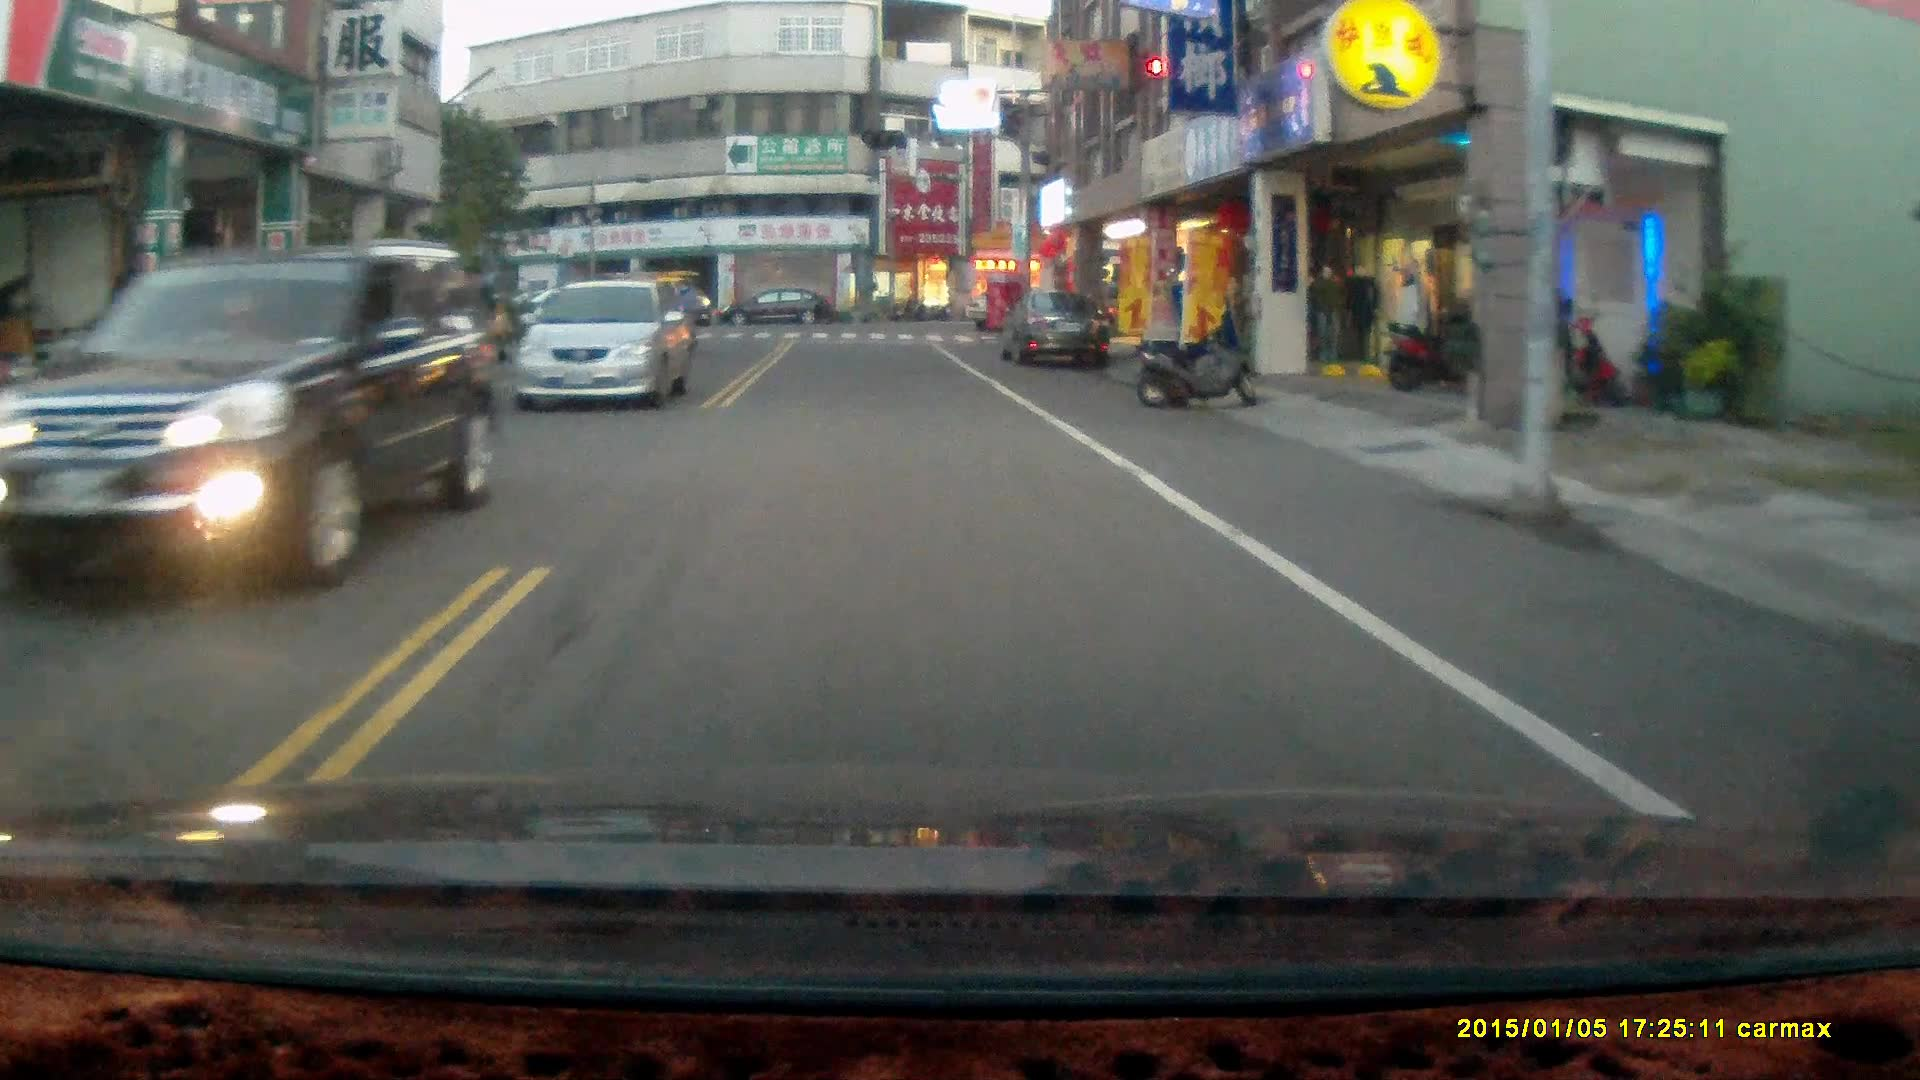vehicle: (3, 243, 497, 620), (524, 280, 696, 413), (1000, 287, 1114, 376), (713, 284, 835, 331)
